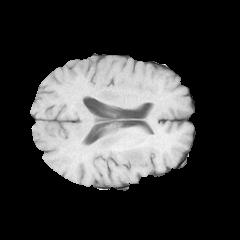glioma: (117, 145, 147, 167)
